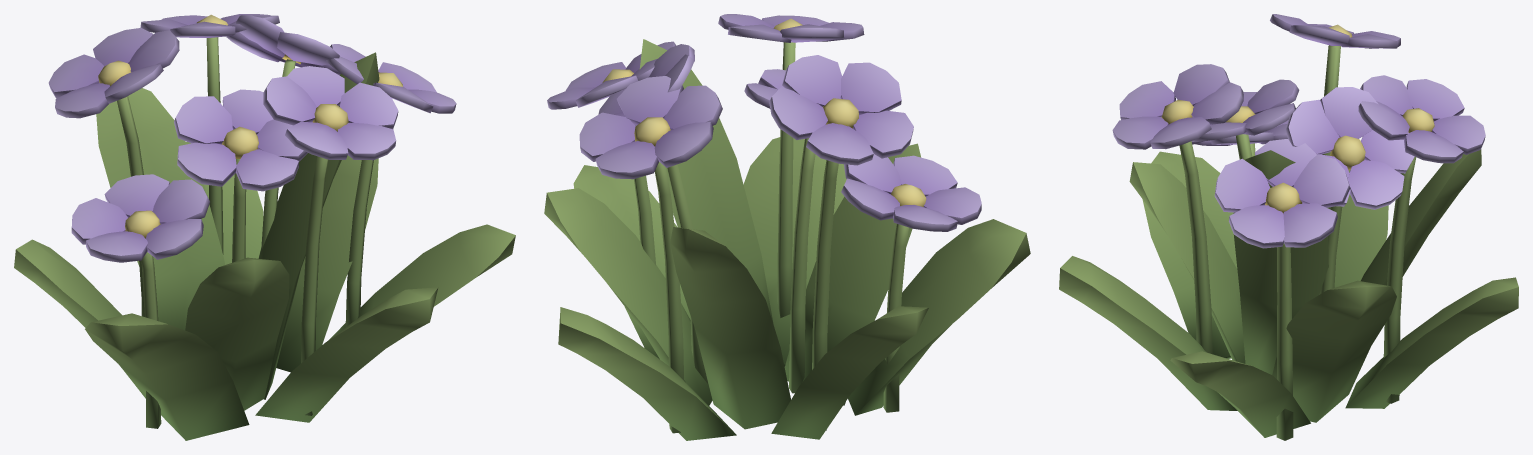
The model's file is flowers_small_a.glb.
3 views of the same model, side by side, from view 1: azimuth 30°, elevation 25°; view 2: azimuth 150°, elevation 25°; view 3: azimuth 270°, elevation 25° (orthographic). The views are drawn at different scales.
Parts seen in each view (by area): view 1: Flowers_Small_A.001; view 2: Flowers_Small_A.001; view 3: Flowers_Small_A.001.
Boxes of the visible parts, x1=… form: Flowers_Small_A.001: x1=14, y1=14, x2=515, y2=440; Flowers_Small_A.001: x1=544, y1=14, x2=1030, y2=440; Flowers_Small_A.001: x1=1059, y1=14, x2=1518, y2=440.
Size of the model in its own units: 0.3854 by 0.3196 by 0.3843.
